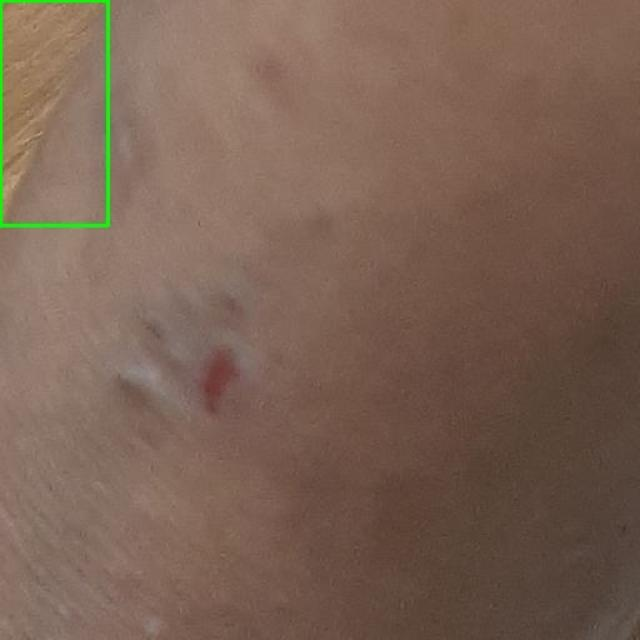Atopic Dermatitis: (0, 0, 108, 225)
